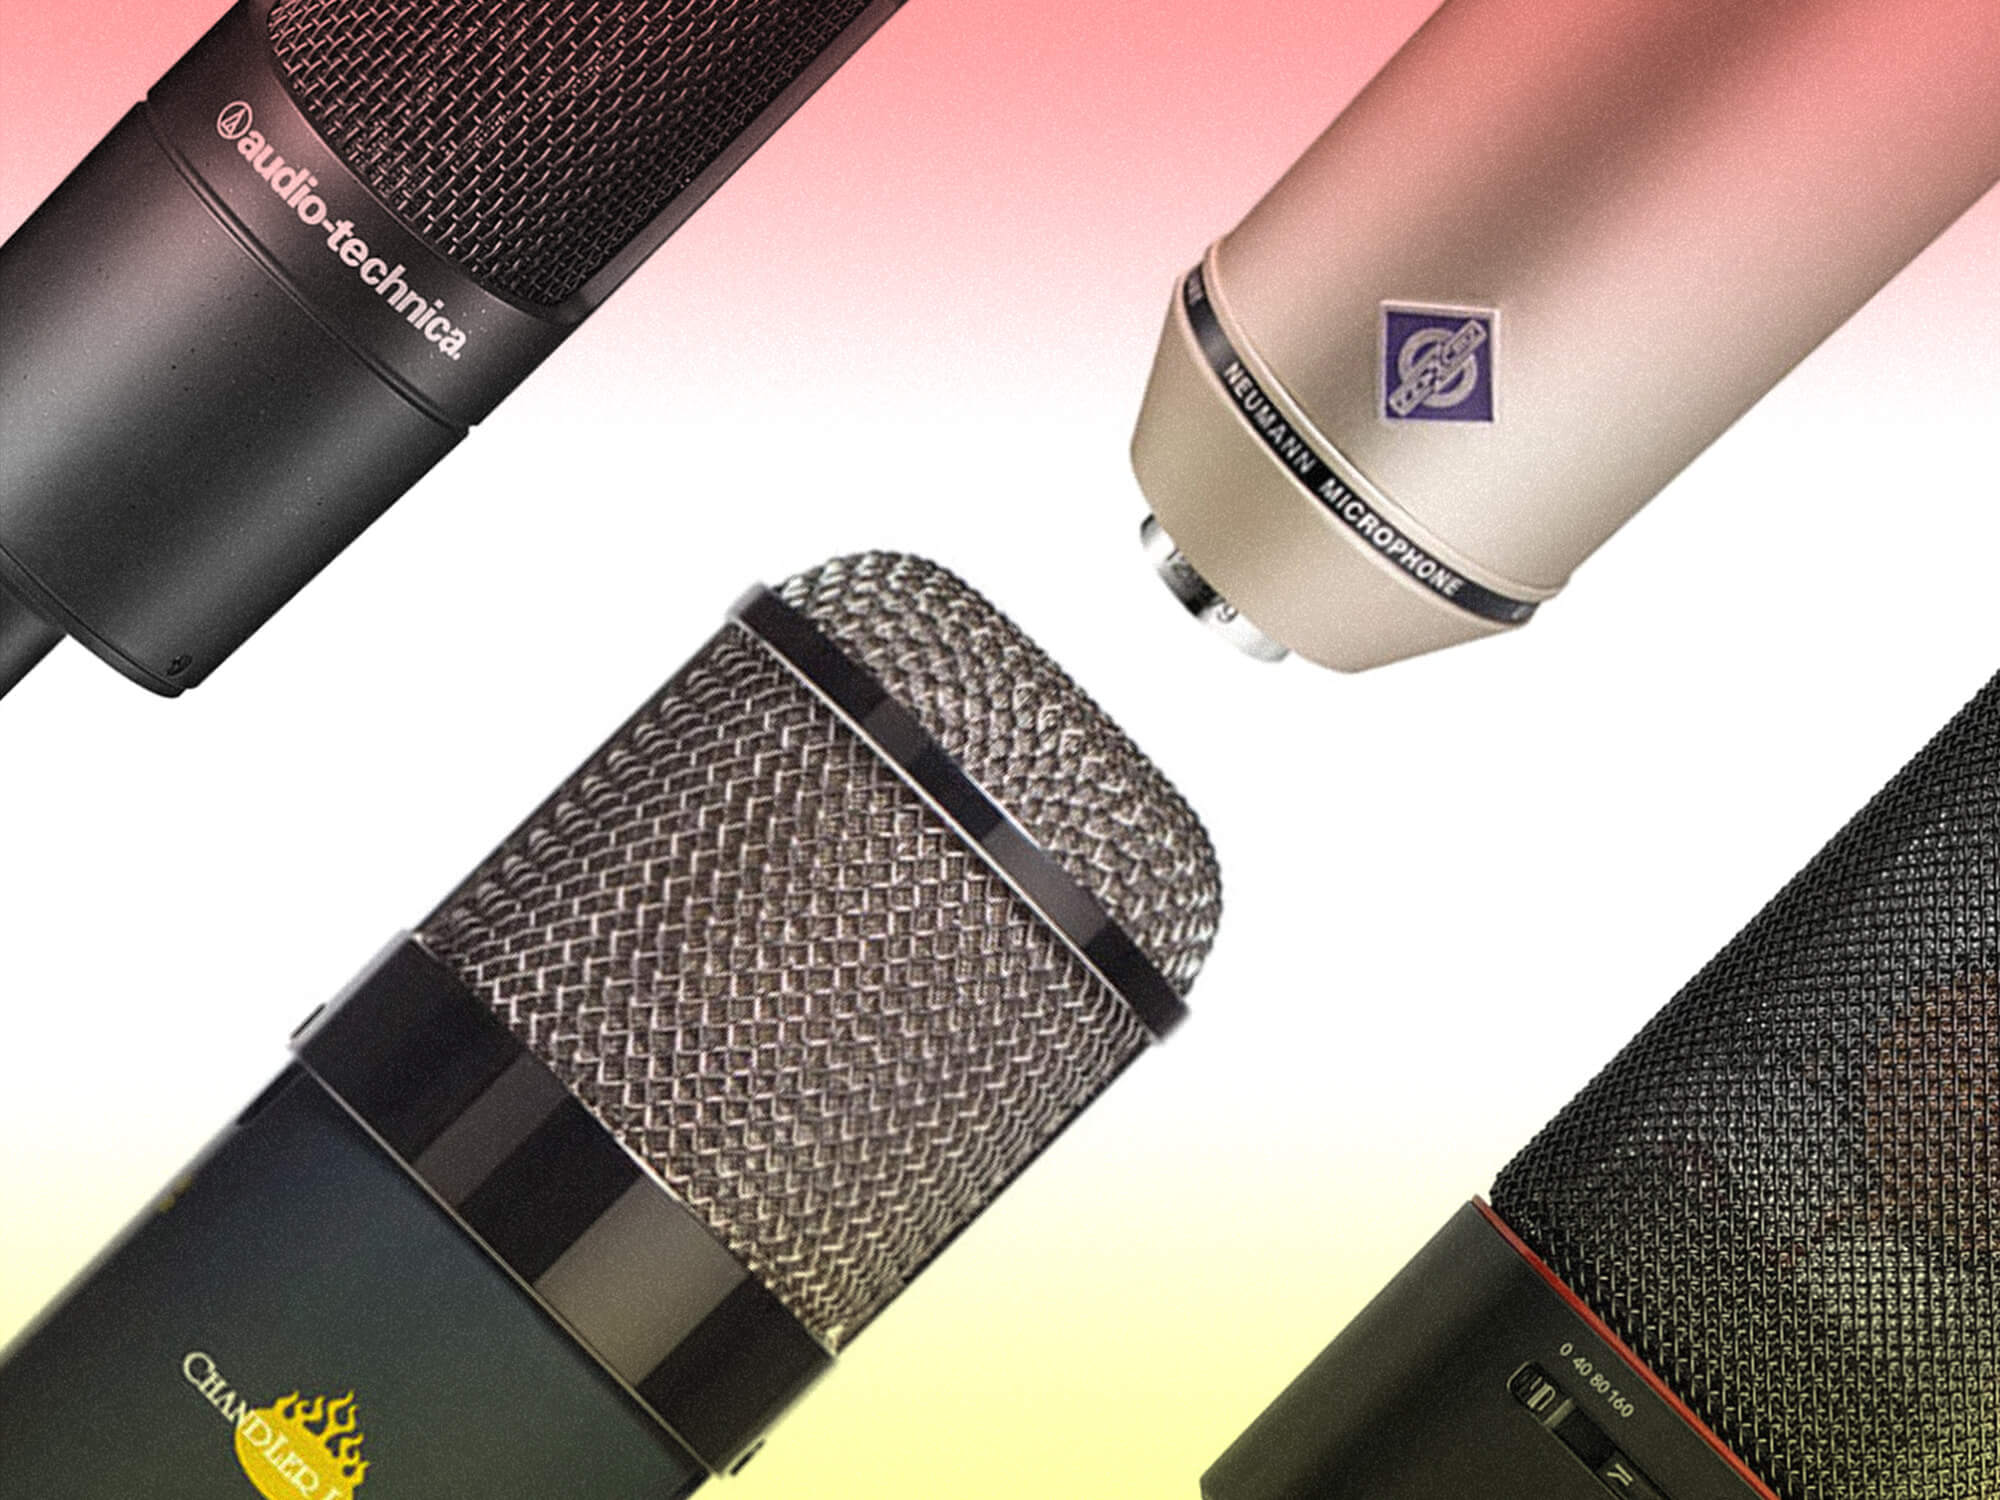microphone: (3, 529, 1254, 1500), (2, 2, 932, 737), (1178, 687, 2000, 1498), (1113, 13, 2000, 684)
